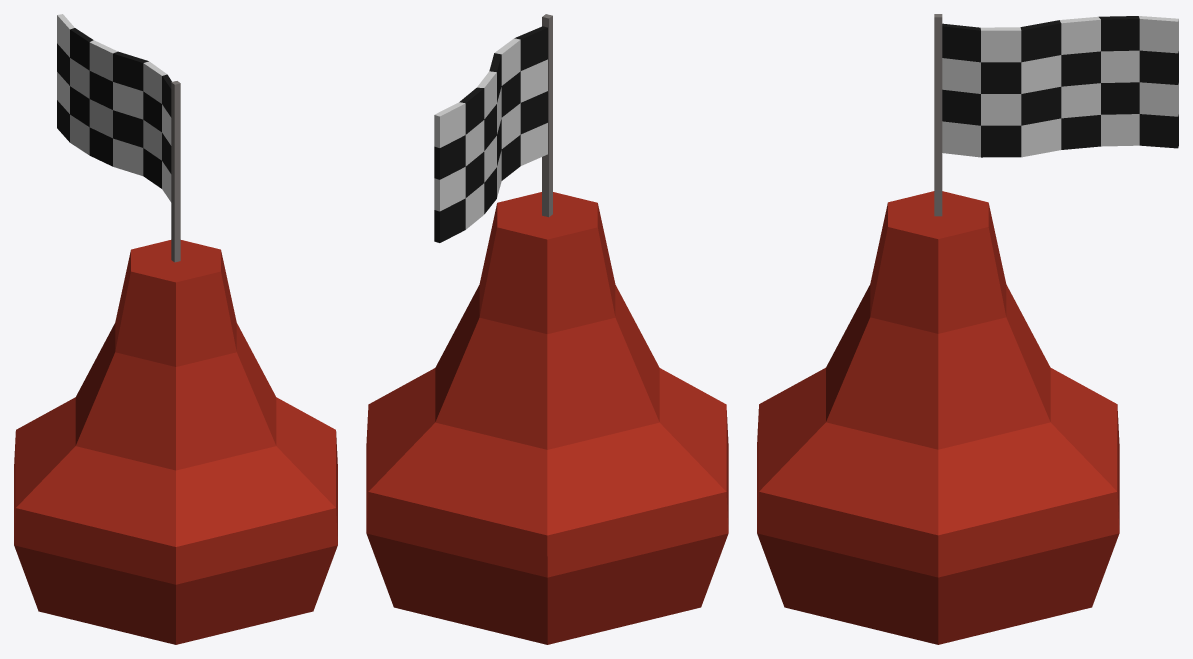
File: Buoy_Finish.fbx
3 renders of one model, left to right at view 1: azimuth 30°, elevation 25°; view 2: azimuth 150°, elevation 25°; view 3: azimuth 270°, elevation 25°, orthographic. The views are drawn at different scales.
Visible parts, largest first — view 1: Boje_Ziel; view 2: Boje_Ziel; view 3: Boje_Ziel.
Part boxes in pixels (bbox=[...]): Boje_Ziel: bbox=[14, 14, 337, 644]; Boje_Ziel: bbox=[366, 14, 728, 644]; Boje_Ziel: bbox=[757, 14, 1178, 644].
Bounding box in the file's own units: 236 × 344 × 238.
